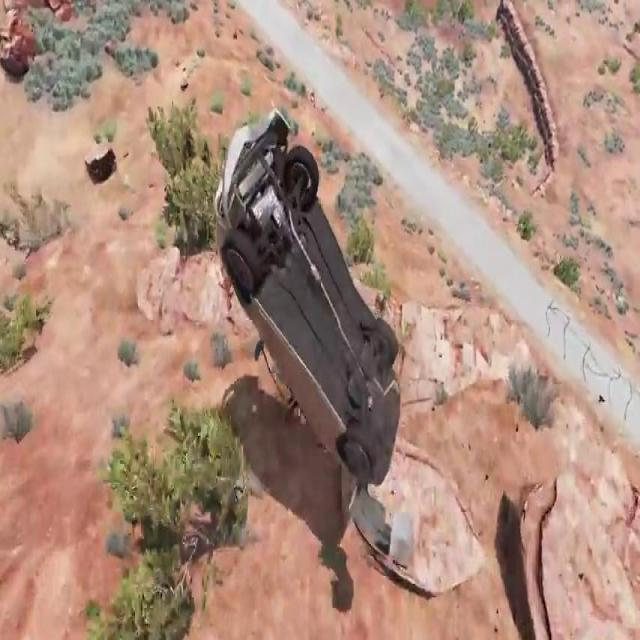severe: (211, 106, 404, 490)
